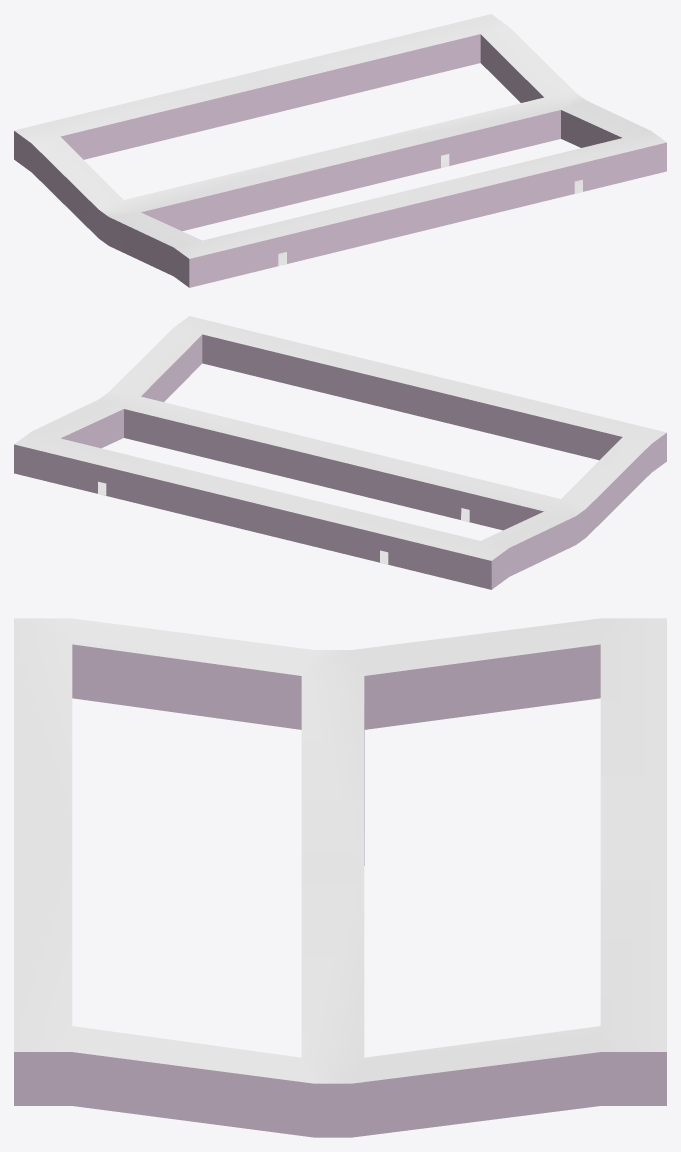
File: School 1.fbx
3 views of the same model, one above another, from view 1: azimuth 30°, elevation 25°; view 2: azimuth 150°, elevation 25°; view 3: azimuth 270°, elevation 25° (orthographic). The views are drawn at different scales.
Visible parts, largest first — view 1: Cube.001; view 2: Cube.001; view 3: Cube.001.
Boxes of the visible parts, x1,y1,x2,y2 form: Cube.001: [14, 14, 666, 287]; Cube.001: [14, 316, 666, 589]; Cube.001: [14, 618, 666, 1137].
Size of the model in its own units: 6482 by 596 by 4125.
